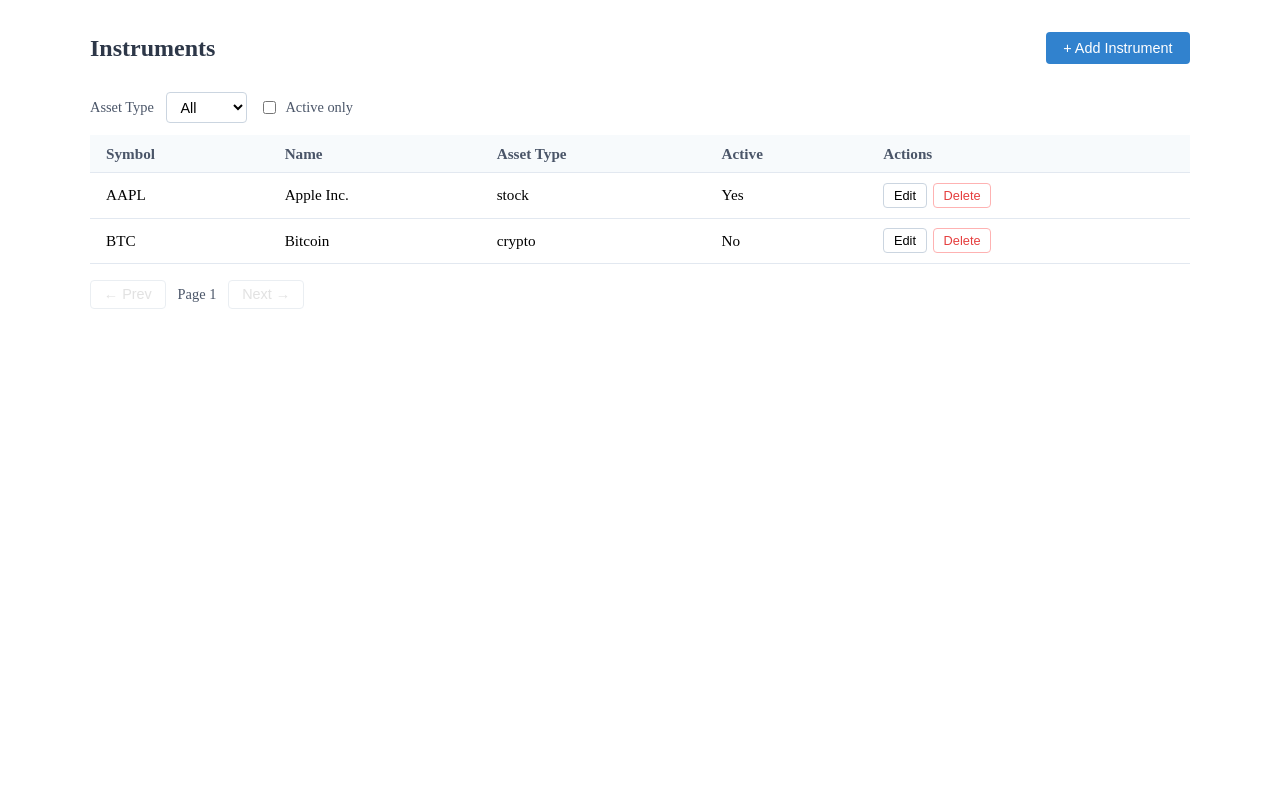
Test: Instruments page › opens the Add Instrument form when the button is clicked
Expected: the text "AAPL" is shown, [90,173,269,218]
Click the button "+ Add Instrument" at (1118, 48), box [1046,32,1190,64]
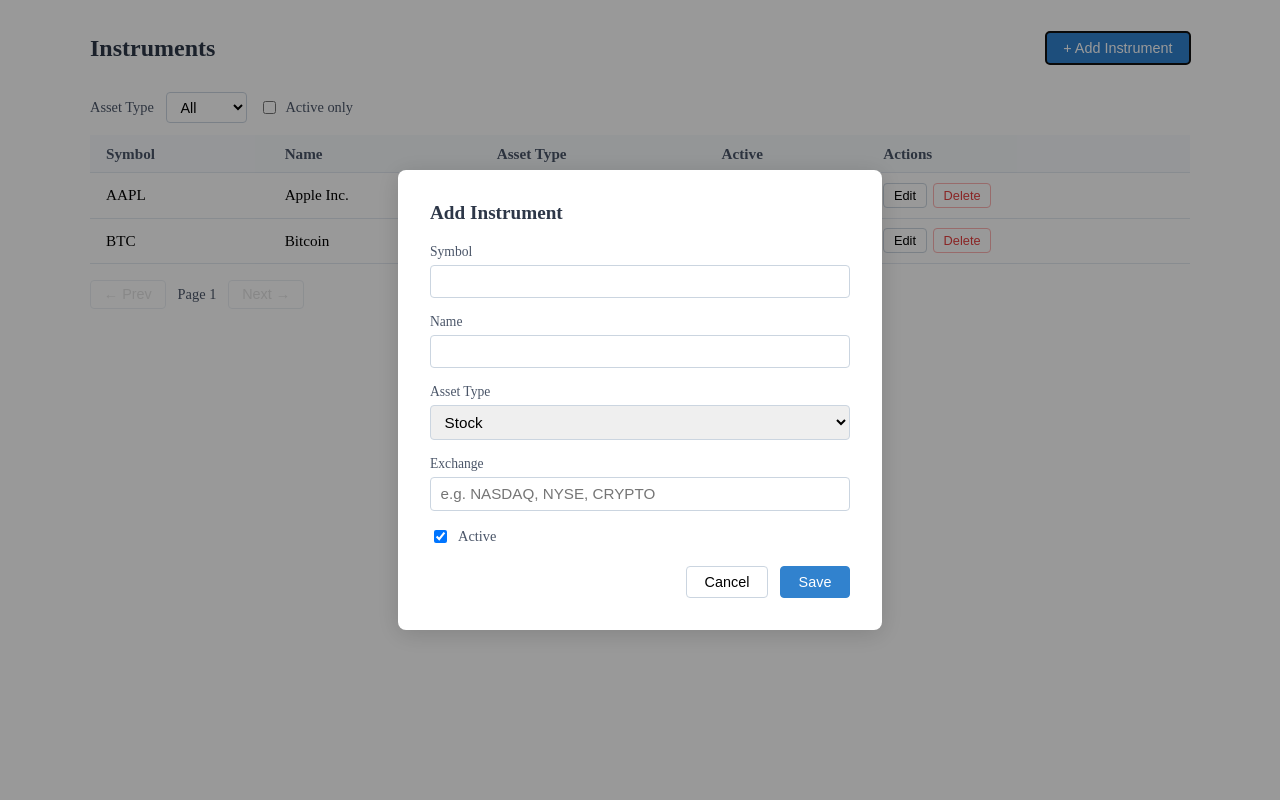
Expected: the heading "Add Instrument" is shown, [430,202,563,223]
